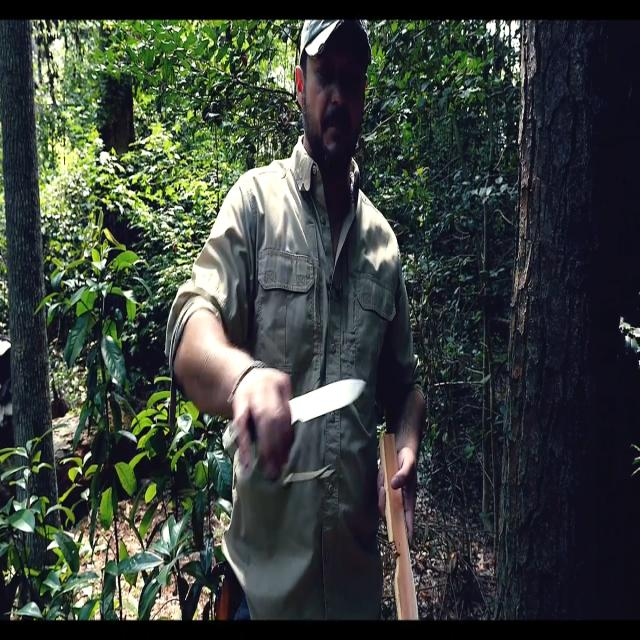knife: (290, 376, 369, 430)
